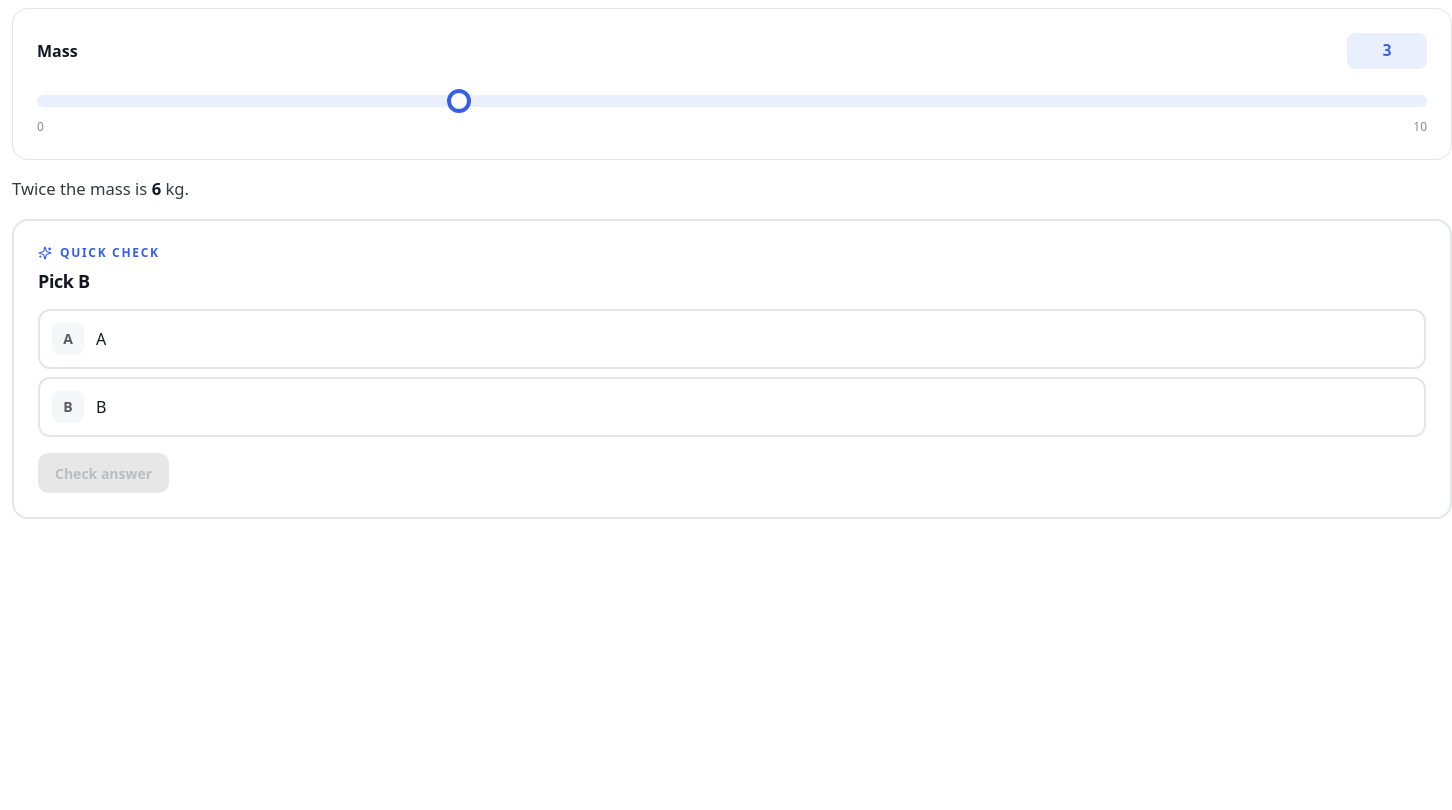
Test: BlockRenderer with lesson variables › fills placeholders and shows blocks as variables change
expect the text "6" is shown: met, box x1=152 y1=177 x2=161 y2=200
expect the text "That's heavy!" is not shown: met
Step 1. Set the slider labelled "Mass" to "9" → (1282, 101), box x1=37 y1=89 x2=1427 y2=113
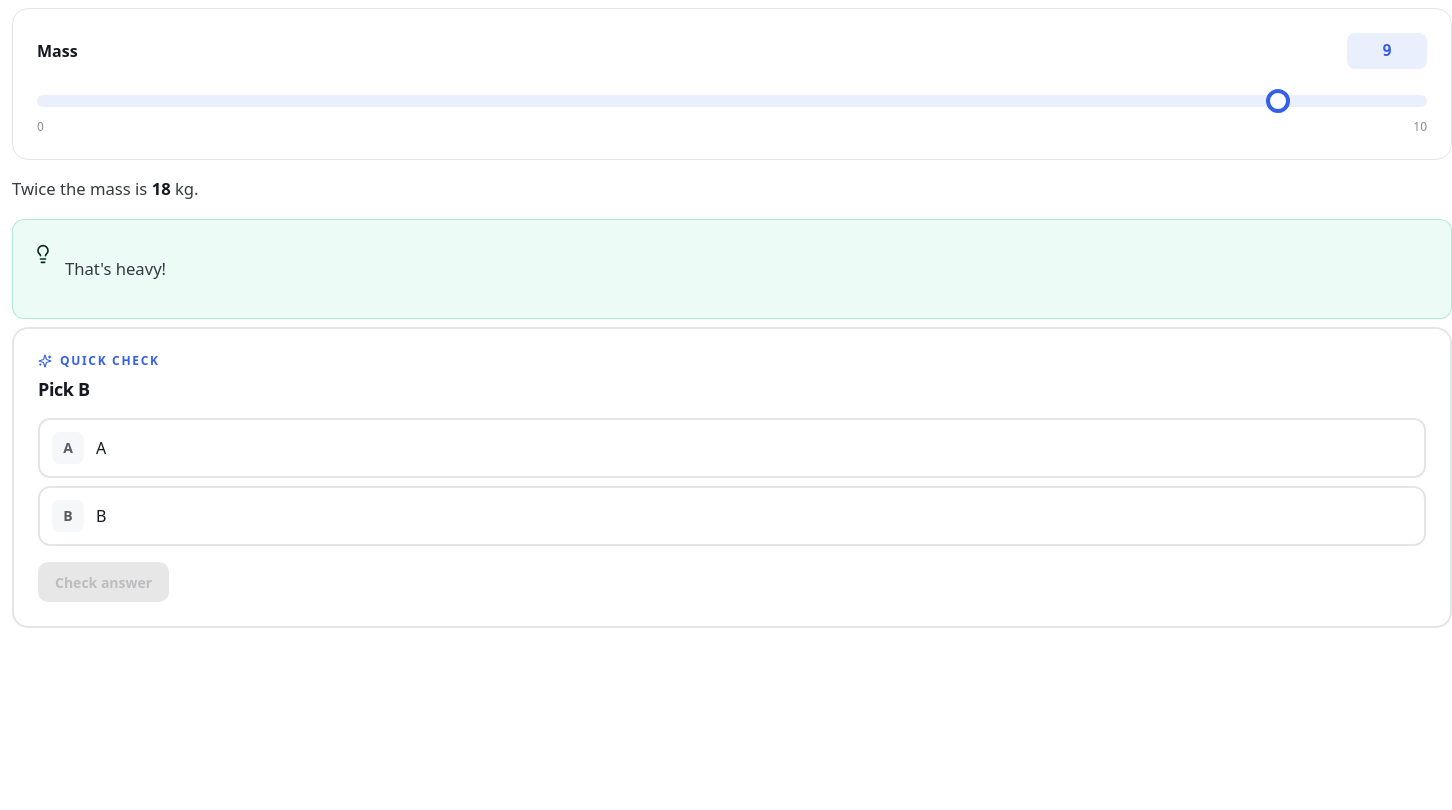
expect the text "18" is shown: met, box x1=152 y1=177 x2=171 y2=200
expect the text "That's heavy!" is shown: met, box x1=65 y1=257 x2=166 y2=280
